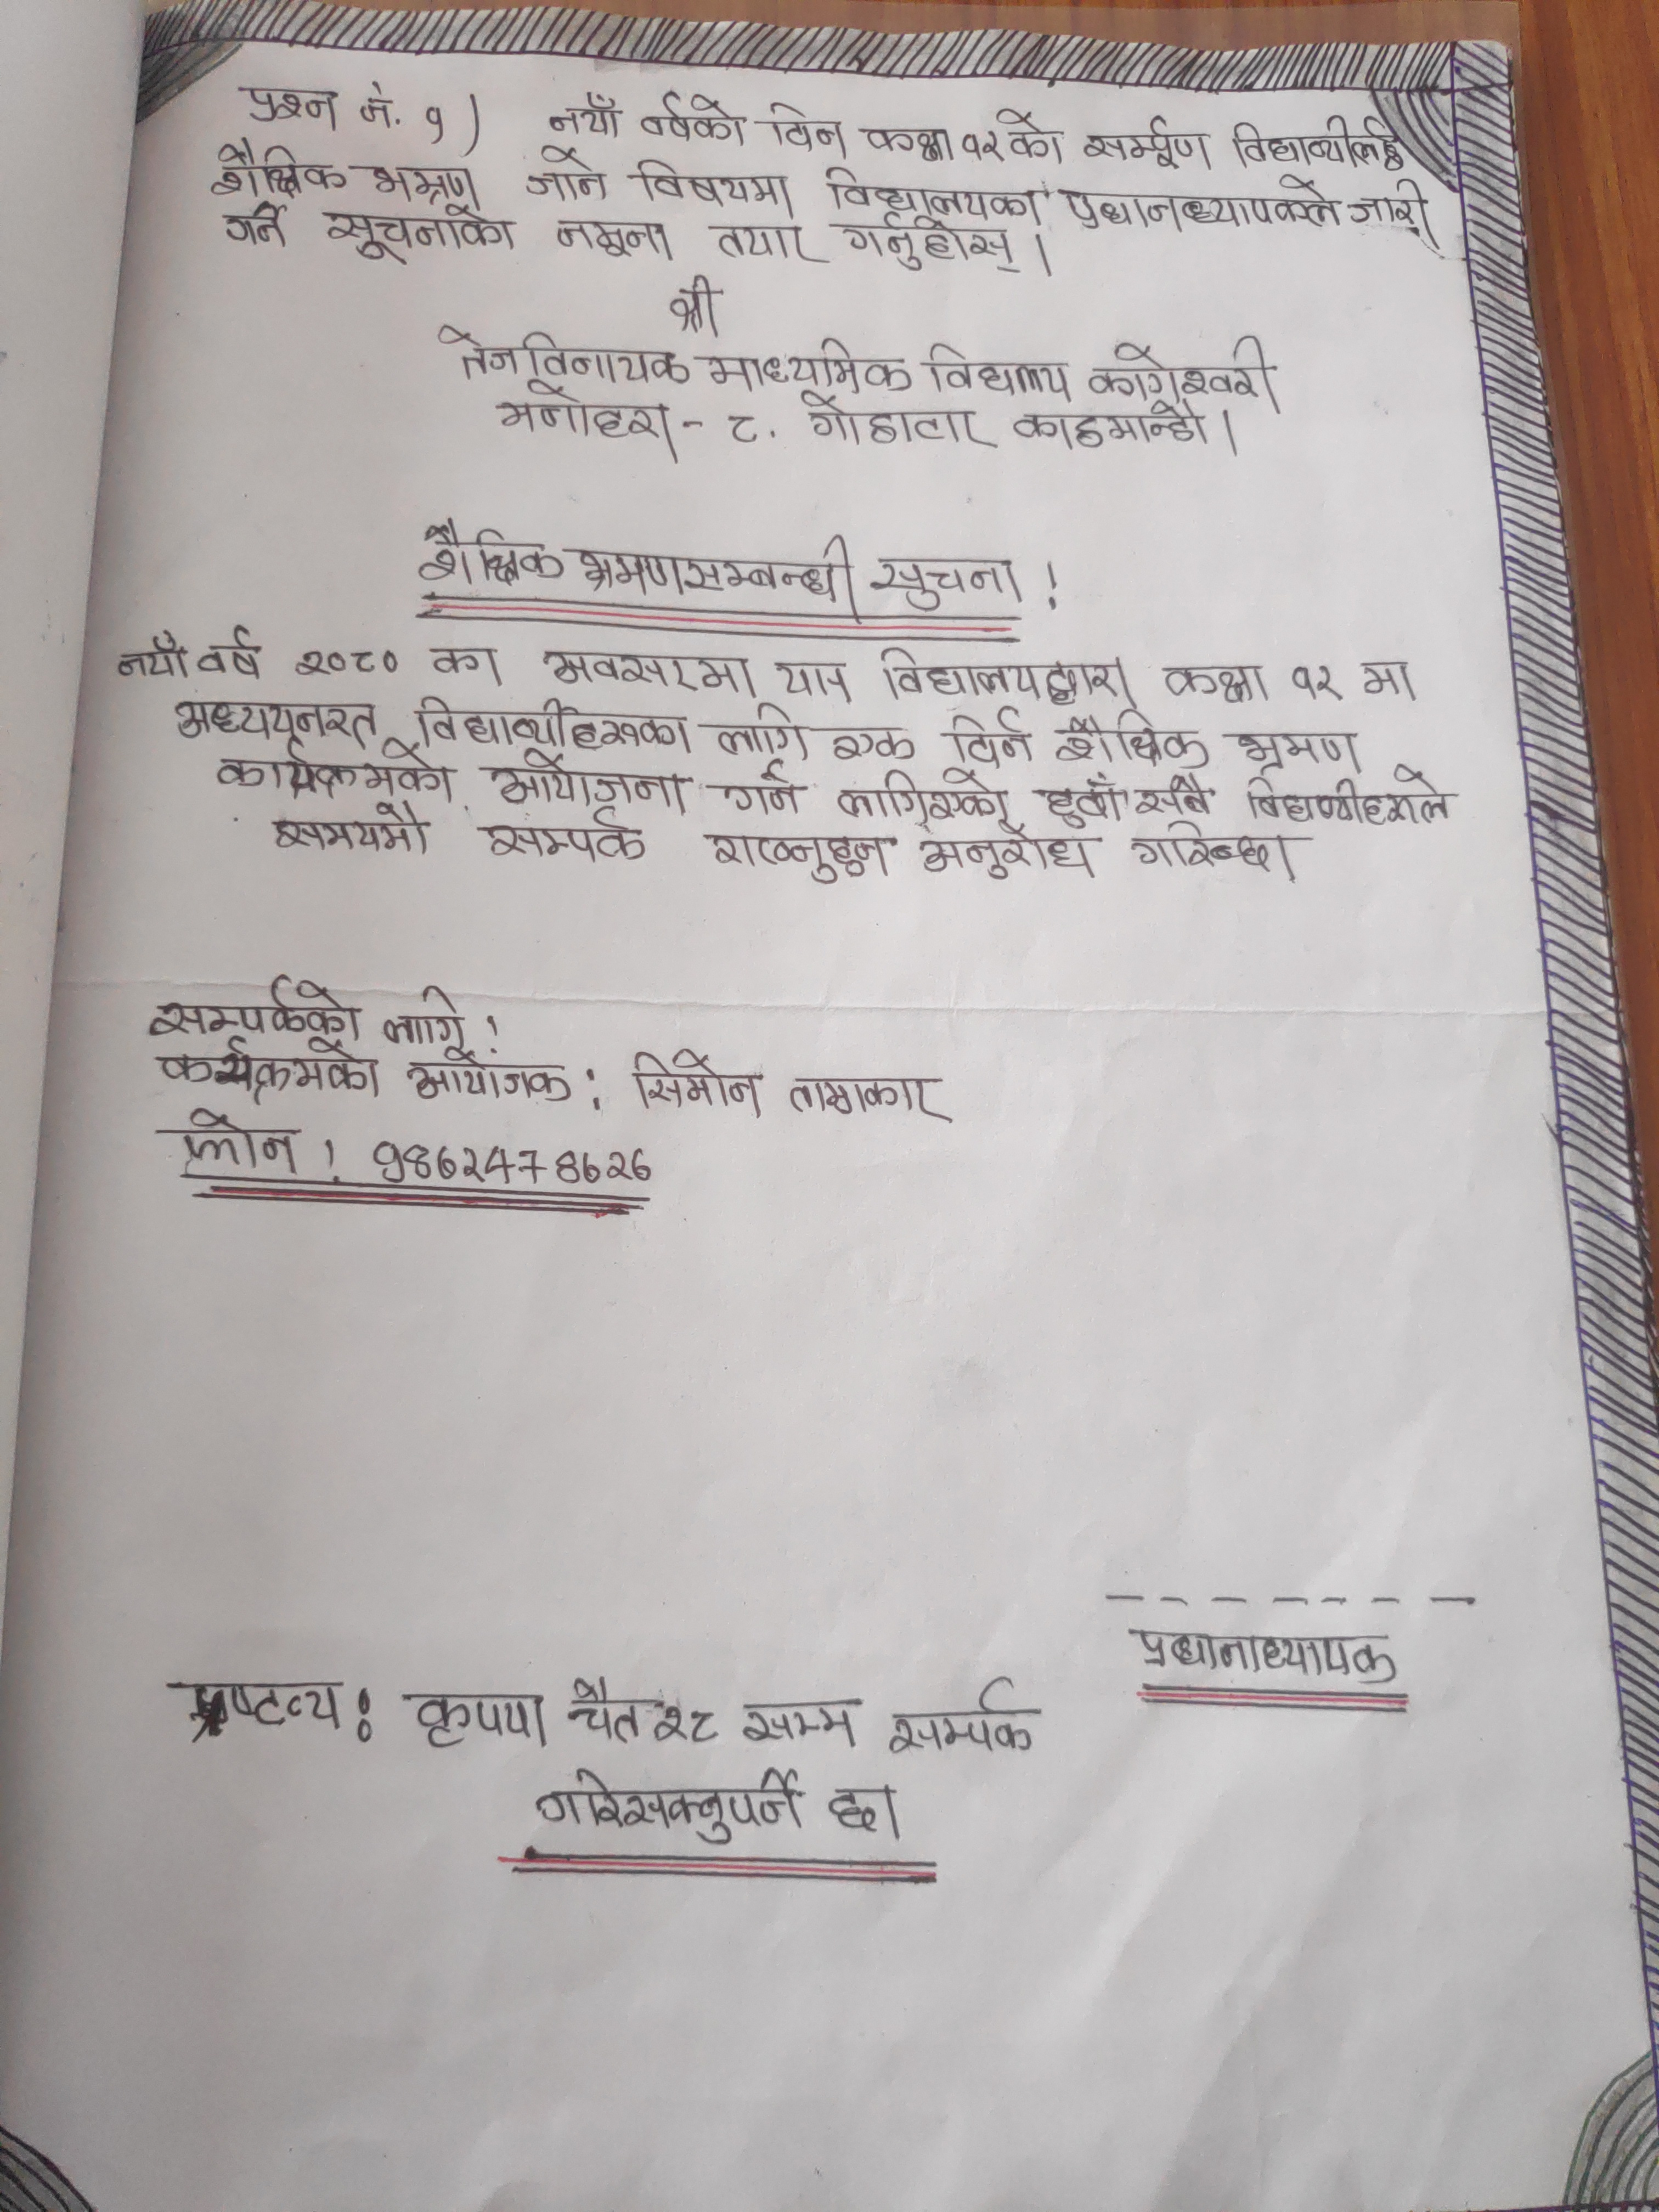text: (568, 536, 859, 613), (537, 1768, 810, 1846), (410, 690, 697, 752), (1127, 1618, 1398, 1684), (873, 644, 1141, 711), (1061, 174, 1344, 235), (214, 737, 457, 806), (430, 320, 690, 385), (488, 381, 680, 462), (369, 1136, 653, 1190), (146, 974, 366, 1040), (157, 1040, 382, 1103), (885, 1672, 1040, 1763), (819, 162, 1044, 221), (1091, 334, 1290, 401), (798, 388, 1000, 451), (486, 752, 692, 813), (533, 643, 762, 697), (1241, 770, 1460, 826), (326, 202, 518, 263), (416, 516, 566, 589), (697, 829, 896, 883), (167, 691, 383, 740), (704, 341, 911, 392), (842, 214, 1016, 273), (1225, 115, 1403, 172), (1012, 401, 1215, 451), (627, 1047, 770, 1118), (631, 157, 798, 216), (406, 1047, 573, 1106), (164, 1109, 305, 1177), (404, 1688, 549, 1754), (472, 810, 650, 862), (836, 772, 1011, 824), (920, 341, 1077, 399), (870, 556, 1026, 613), (788, 1073, 957, 1125), (1054, 712, 1208, 768), (211, 139, 350, 200), (267, 803, 432, 853), (193, 1677, 343, 1733), (1084, 113, 1216, 172), (917, 840, 1100, 881), (1223, 726, 1364, 779), (735, 1693, 863, 1749), (1134, 822, 1274, 873), (708, 704, 812, 761), (382, 984, 472, 1050), (361, 155, 481, 204), (547, 216, 673, 261), (568, 1677, 653, 1743), (234, 80, 342, 132), (941, 707, 1033, 768), (641, 91, 746, 141), (1159, 660, 1270, 705), (716, 759, 807, 815), (699, 221, 823, 261), (1037, 773, 1126, 829), (762, 101, 849, 157), (526, 148, 613, 202), (997, 99, 1072, 162), (192, 625, 272, 681), (772, 651, 854, 704), (547, 91, 631, 141), (1134, 773, 1222, 820), (859, 120, 955, 162), (115, 632, 193, 683), (823, 723, 915, 763), (650, 1702, 721, 1749), (669, 273, 725, 333), (430, 643, 505, 686), (221, 204, 293, 249), (295, 646, 399, 676), (354, 75, 404, 136), (828, 1785, 885, 1834), (1359, 660, 1417, 705), (1293, 660, 1342, 705), (958, 125, 1004, 164), (721, 411, 760, 451)
